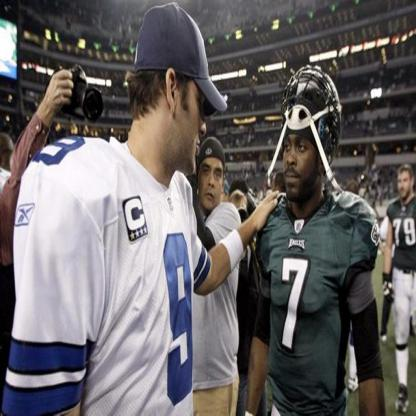face: (178, 70, 207, 171), (284, 122, 319, 199), (200, 157, 224, 210), (273, 174, 285, 203), (399, 174, 411, 199), (4, 147, 16, 172), (220, 187, 230, 206), (71, 124, 78, 139), (371, 143, 378, 152)
